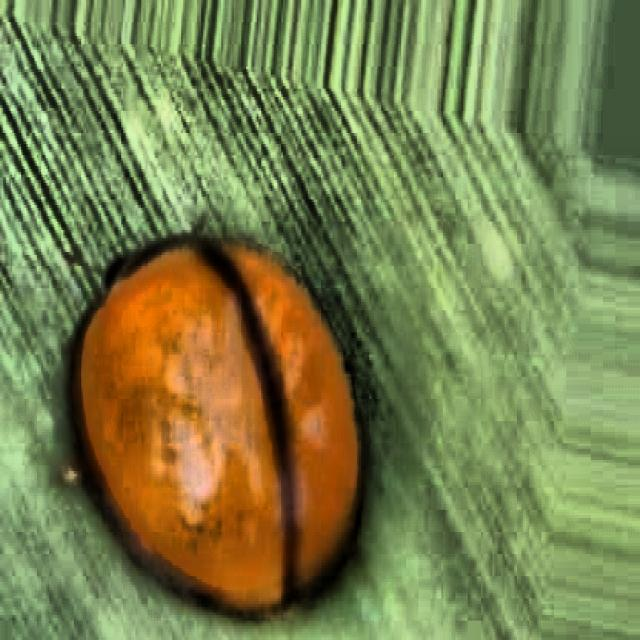Ladybug: (8, 151, 432, 640)
